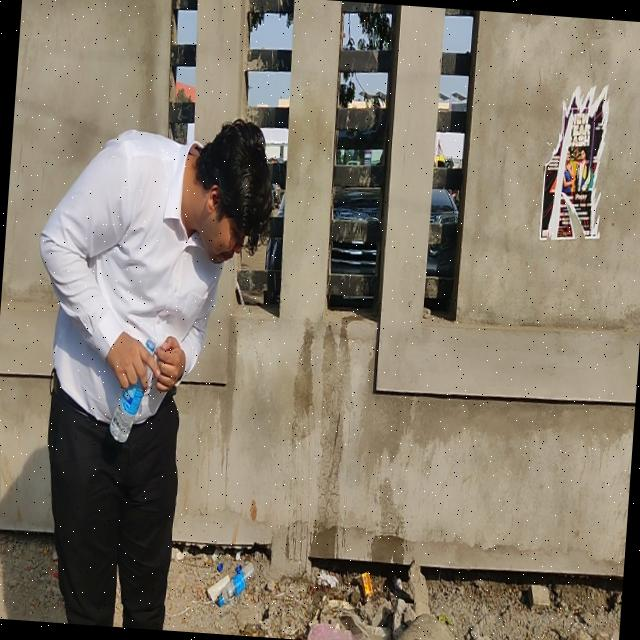spit: (195, 142, 310, 553)
